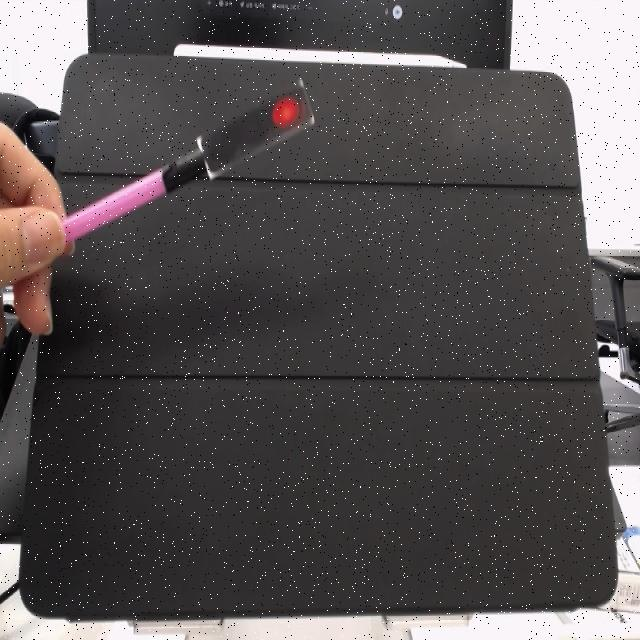traffic light: (204, 87, 314, 177)
